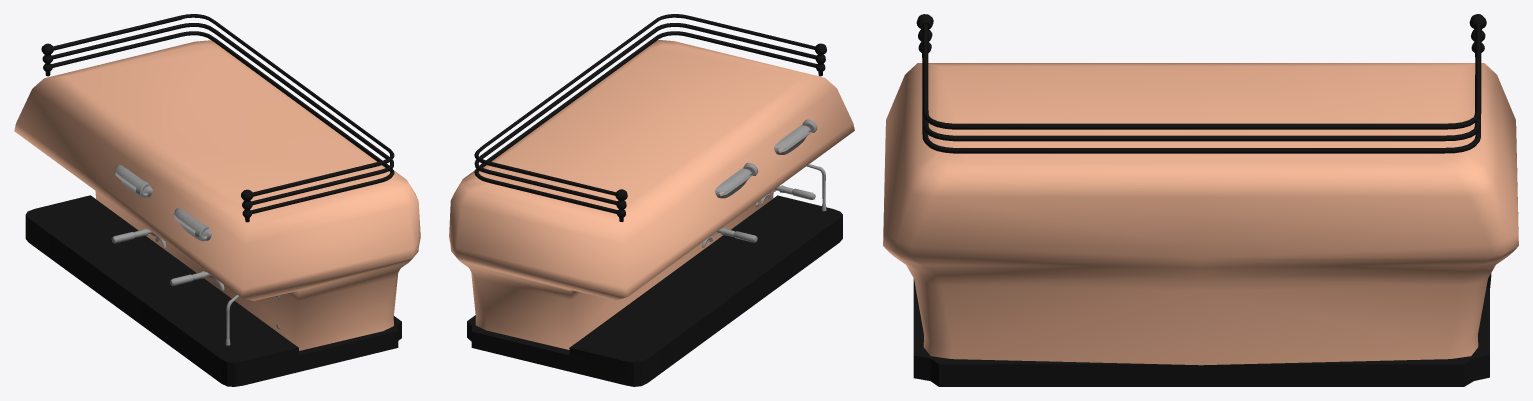
Rendered from Coffee-Machine.FBX.
The picture shows the model from 3 angles, left to right: view 1: azimuth 30°, elevation 25°; view 2: azimuth 150°, elevation 25°; view 3: azimuth 270°, elevation 25°; orthographic projection. The views are drawn at different scales.
Visible parts, largest first — view 1: Coffee-Machine-1; view 2: Coffee-Machine-1; view 3: Coffee-Machine-1.
Part boxes in pixels (x1=…): Coffee-Machine-1: x1=14, y1=14, x2=420, y2=386; Coffee-Machine-1: x1=449, y1=14, x2=854, y2=386; Coffee-Machine-1: x1=883, y1=14, x2=1518, y2=386.
Bounding box in the file's own units: 657 × 578 × 1263.
